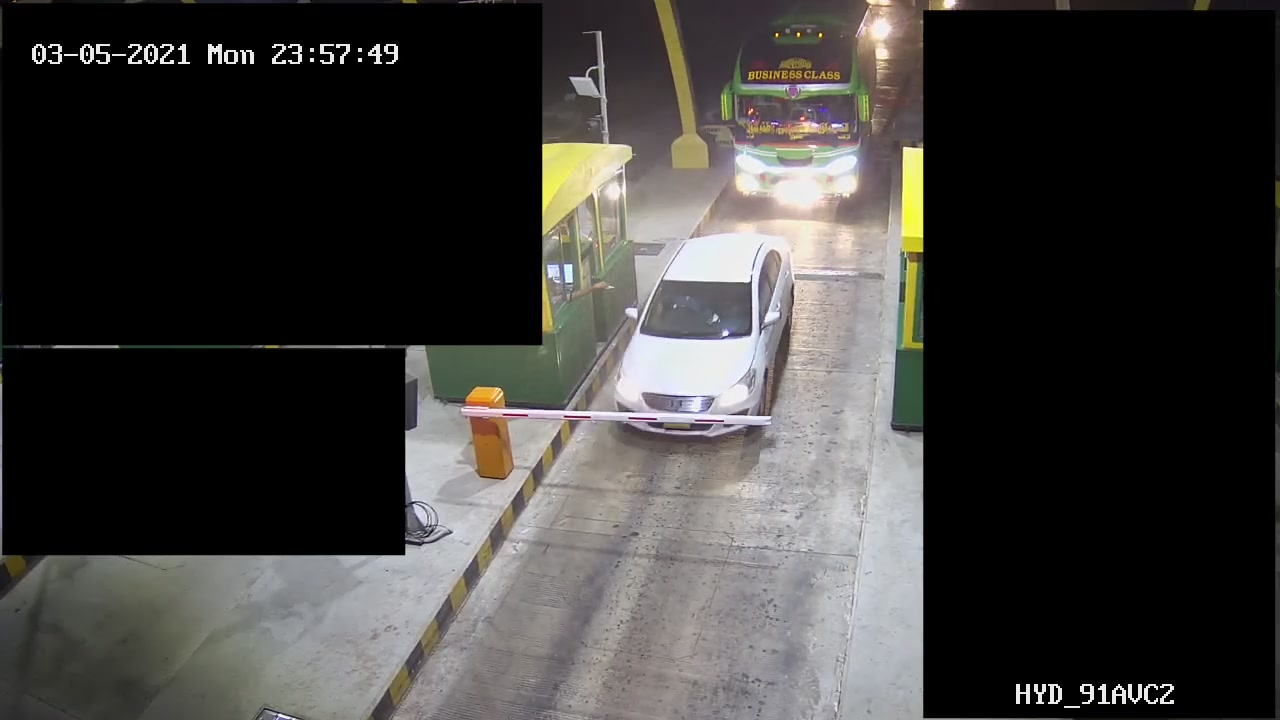F1: (603, 228, 804, 447)
